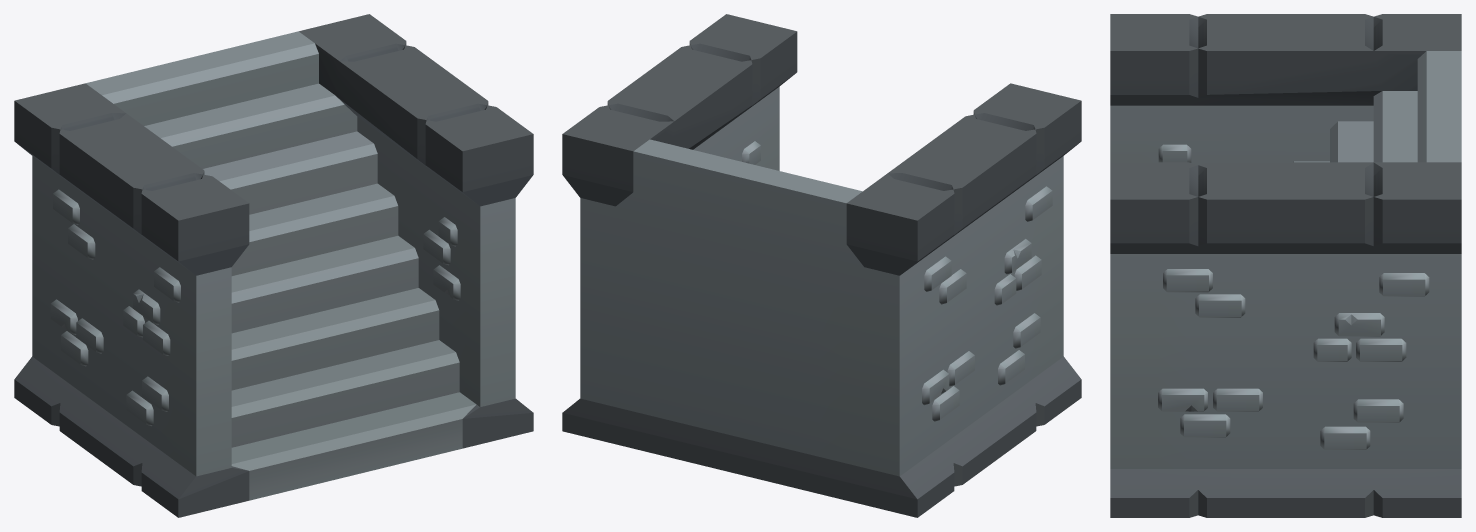
Rendered from kay-escada-pedra.gltf.
3 renders of one model, left to right at view 1: azimuth 30°, elevation 25°; view 2: azimuth 150°, elevation 25°; view 3: azimuth 270°, elevation 25°, orthographic. The views are drawn at different scales.
Visible parts, largest first — view 1: stairs_walled; view 2: stairs_walled; view 3: stairs_walled.
Part boxes in pixels (box(x1,y1,x2,y2)): stairs_walled: box(14, 14, 533, 517); stairs_walled: box(562, 14, 1081, 517); stairs_walled: box(1110, 14, 1461, 517).
Bounding box in the file's own units: 3.25 × 2.6 × 2.6.
Materials: 1 (1 with a texture image).
